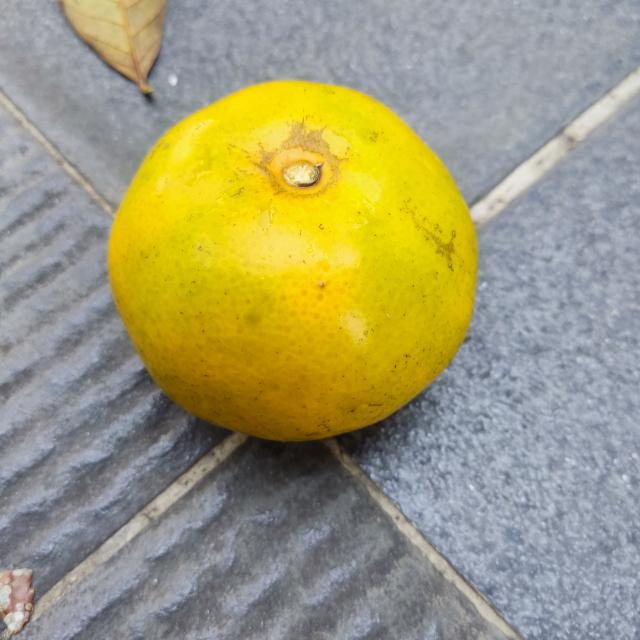orange: (105, 81, 478, 442)
